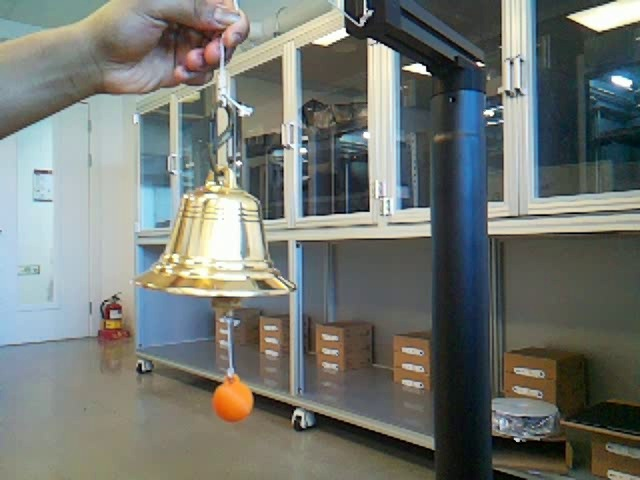bell: (134, 167, 296, 298)
pole: (428, 74, 492, 479)
